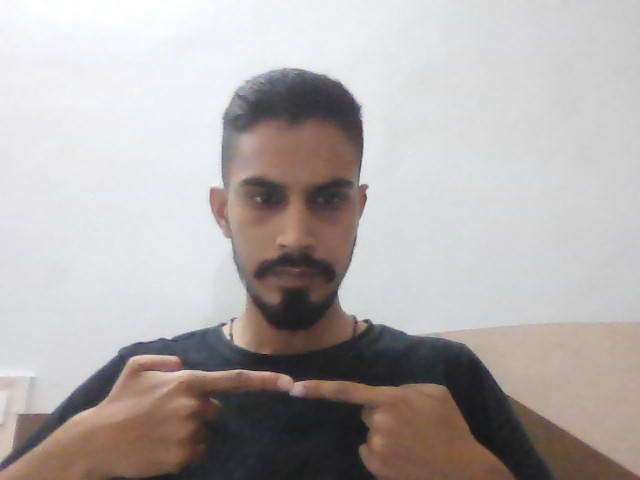Hurt: (116, 354, 460, 480)
